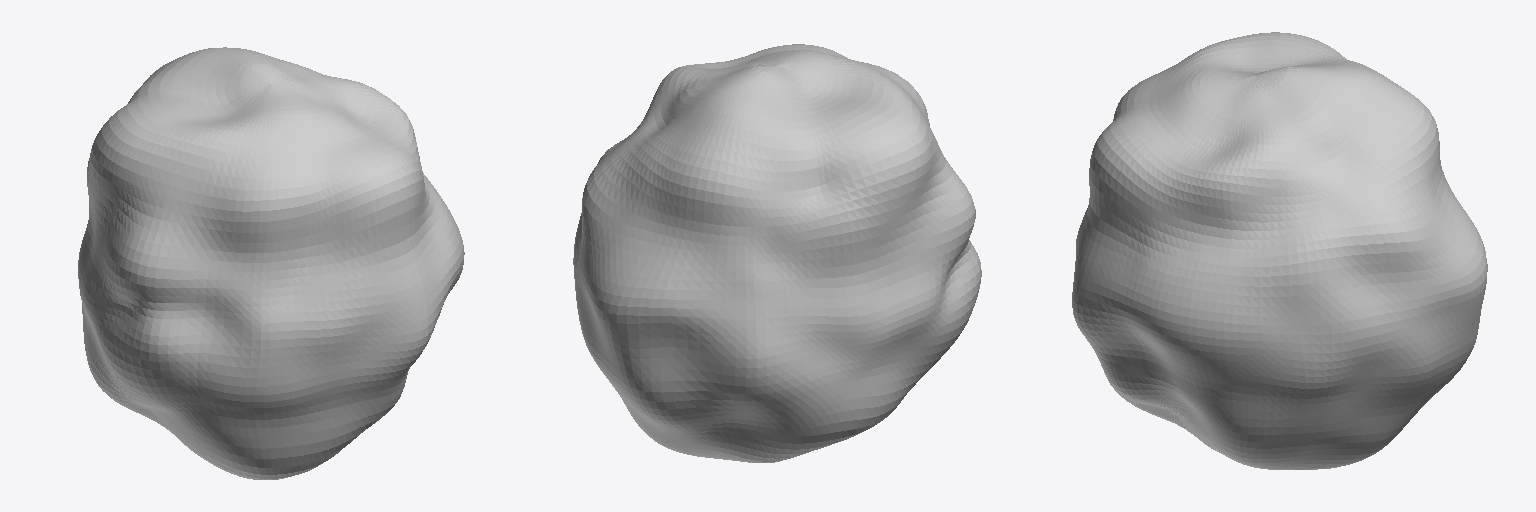
Rendered from asteroid2.obj.
The picture shows the model from 3 angles: view 1: azimuth 30°, elevation 25°; view 2: azimuth 150°, elevation 25°; view 3: azimuth 270°, elevation 25°; orthographic projection.
Parts seen in each view (by area): view 1: Asteriod5; view 2: Asteriod5; view 3: Asteriod5.
Boxes of the visible parts, <box> form: Asteriod5: <box>78,47,464,479</box>; Asteriod5: <box>573,44,981,462</box>; Asteriod5: <box>1072,32,1487,469</box>.
Bounding box in the file's own units: 2.76 × 2.94 × 2.95.